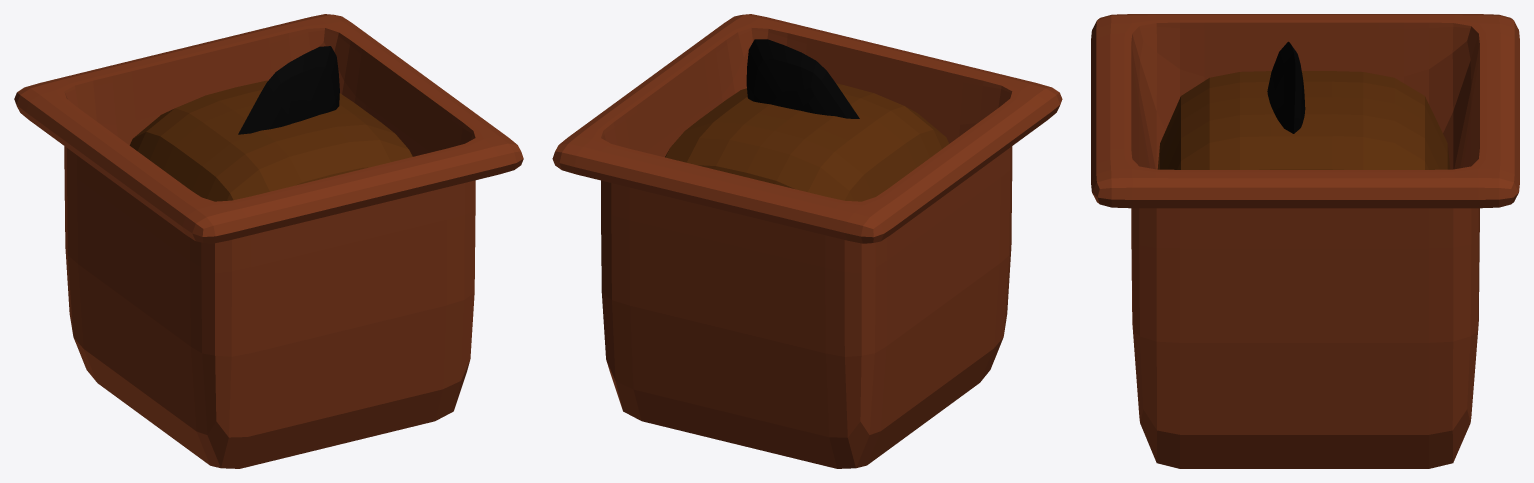
File: t_pot.fbx
3 renders of one model, left to right at view 1: azimuth 30°, elevation 25°; view 2: azimuth 150°, elevation 25°; view 3: azimuth 270°, elevation 25°, orthographic. The views are drawn at different scales.
Parts seen in each view (by area): view 1: Pot with dirt, dirt, Cube; view 2: Pot with dirt, dirt, Cube; view 3: Pot with dirt, dirt, Cube.
Part boxes in pixels (left/top/right/bottom): Pot with dirt: left=14, top=14, right=523, bottom=468; dirt: left=129, top=80, right=412, bottom=201; Cube: left=238, top=46, right=339, bottom=134; Pot with dirt: left=552, top=14, right=1062, bottom=468; dirt: left=665, top=83, right=948, bottom=201; Cube: left=746, top=39, right=859, bottom=118; Pot with dirt: left=1091, top=14, right=1519, bottom=468; dirt: left=1157, top=71, right=1450, bottom=169; Cube: left=1267, top=41, right=1305, bottom=133.
Size of the model in its own units: 308 by 310 by 314.
